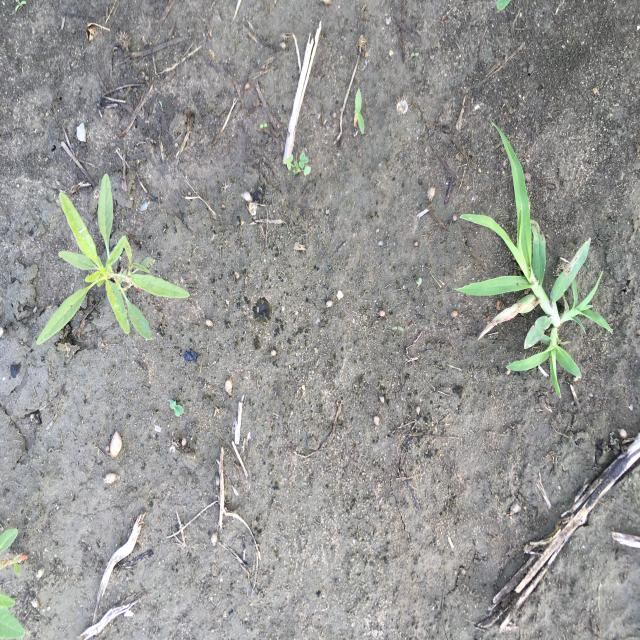Goosegrass: (451, 120, 614, 399)
Waterhemp: (35, 173, 191, 348)
